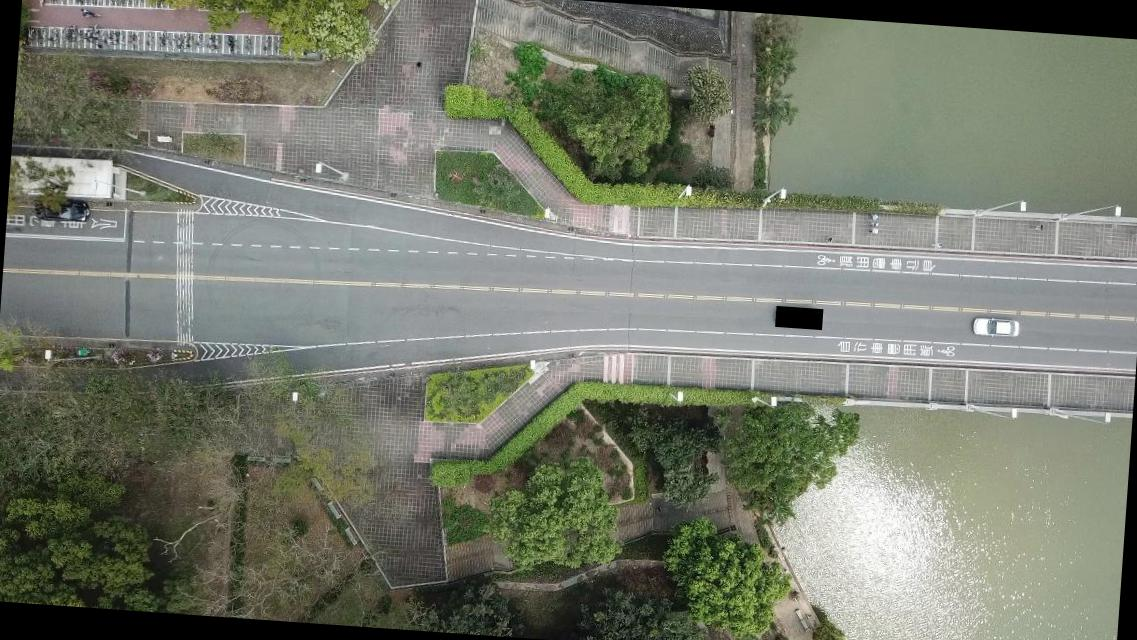vehicle: (33, 198, 90, 224), (969, 316, 1018, 339)
